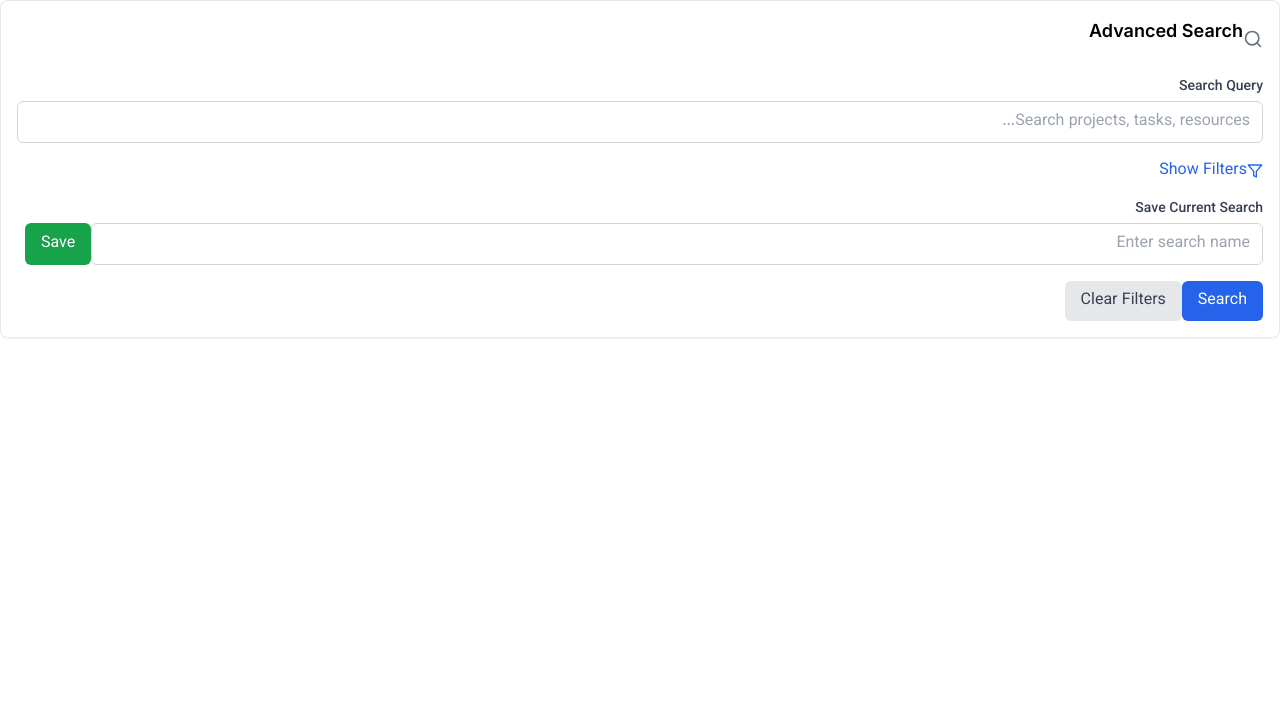
Scenario: AdvancedSearch › toggles filters visibility
The image size is (1280, 720).
Click the button "Show Filters" at (1207, 171), box 1151,159 -> 1263,183
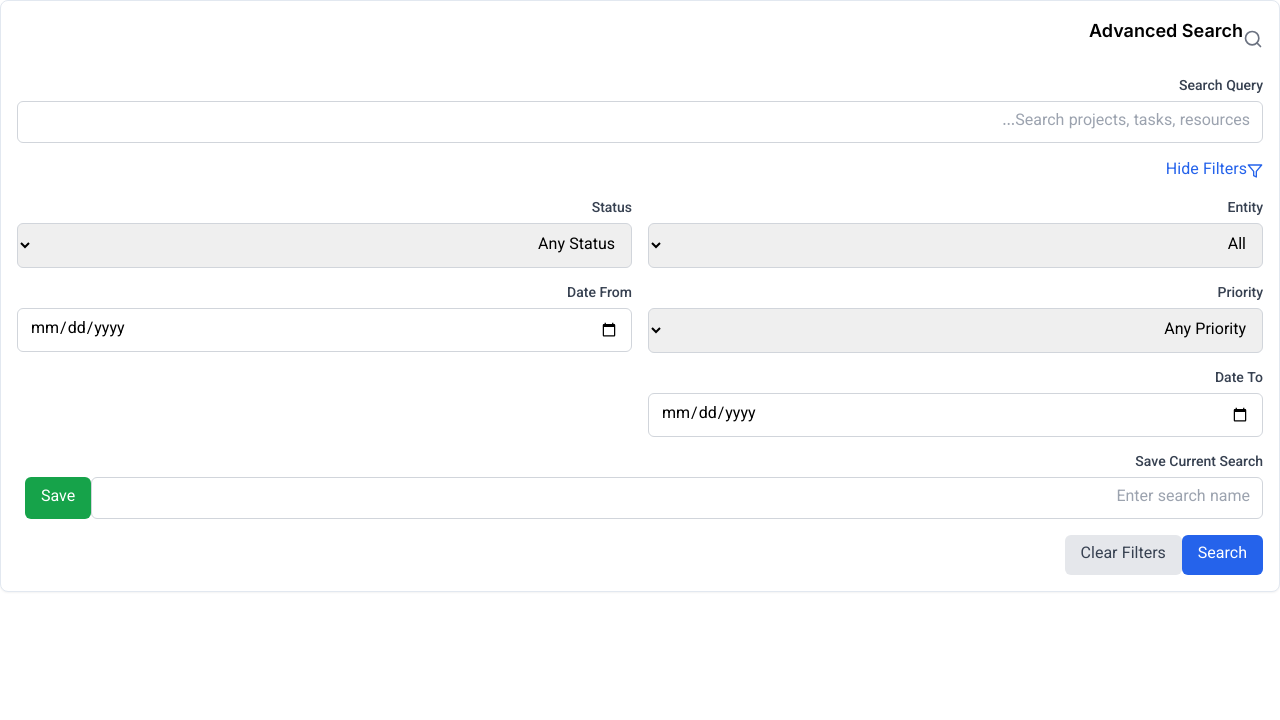
Expected: the text "Hide Filters" is shown, 1166,159 -> 1247,183
Expected: the text "Entity" is shown, 1228,198 -> 1263,220
